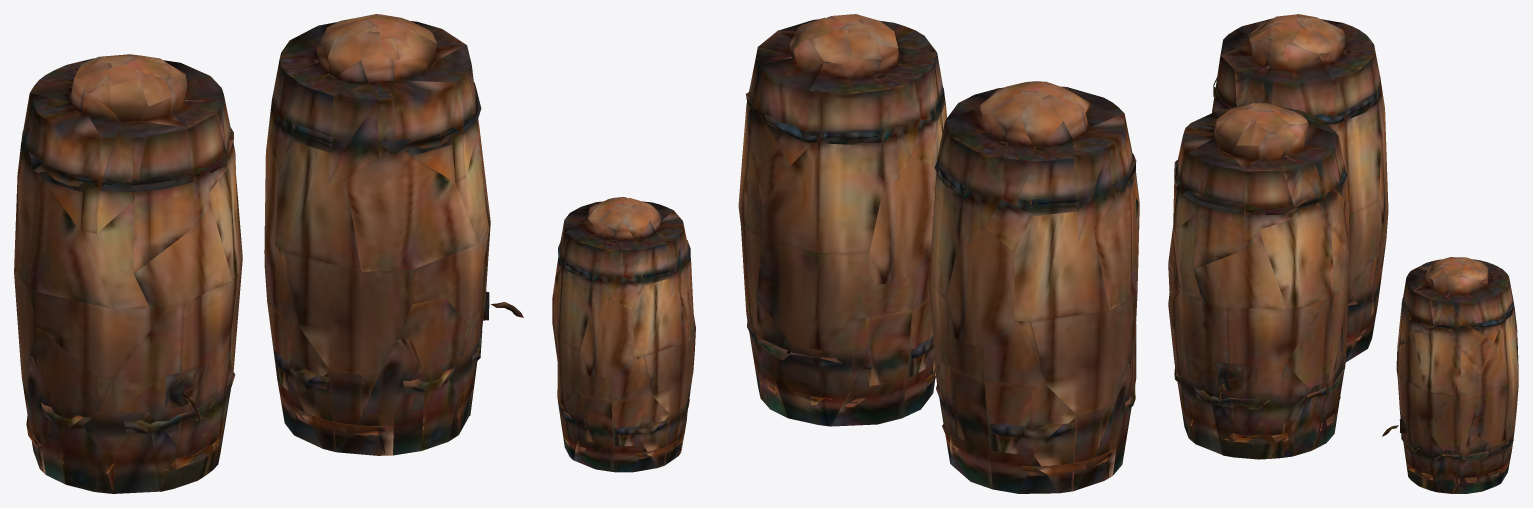
The model's file is barrel-cluster.lod2.glb.
3 views of the same model, side by side, from view 1: azimuth 30°, elevation 25°; view 2: azimuth 150°, elevation 25°; view 3: azimuth 270°, elevation 25° (orthographic). The views are drawn at different scales.
Bounding box in the file's own units: 1.22 × 0.9 × 0.9062.
Materials: 1 (1 with a texture image).
